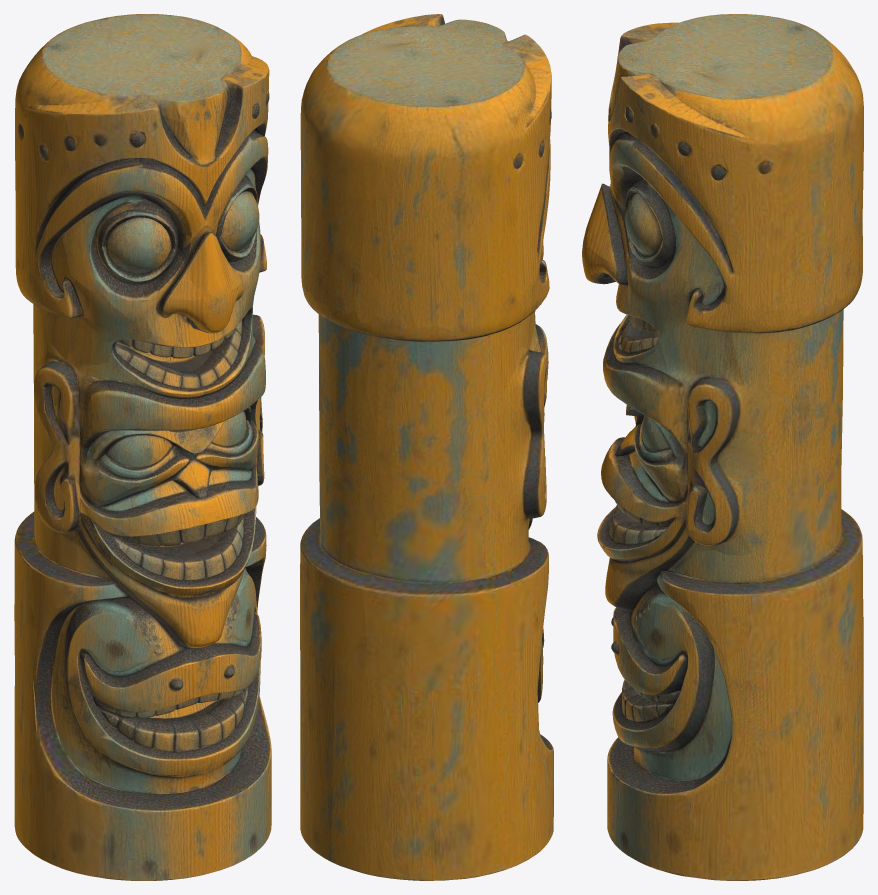
File: totem_tiki.glb
3 renders of one model, left to right at view 1: azimuth 30°, elevation 25°; view 2: azimuth 150°, elevation 25°; view 3: azimuth 270°, elevation 25°, orthographic.
Parts seen in each view (by area): view 1: Mesh_0; view 2: Mesh_0; view 3: Mesh_0.
Boxes of the visible parts, box(x1,y1,x2,y2) form: Mesh_0: box(14, 14, 271, 880); Mesh_0: box(300, 14, 553, 880); Mesh_0: box(582, 14, 863, 880).
Size of the model in its own units: 0.7548 by 2.5 by 0.8282.
1 material, 1 textured.
